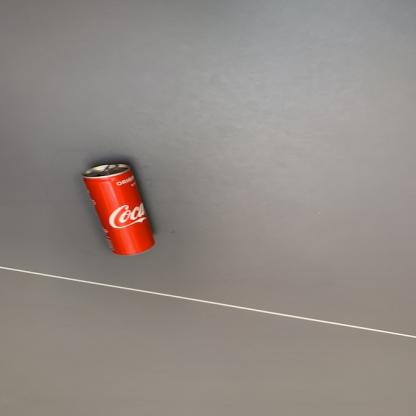trash: (78, 160, 158, 258)
